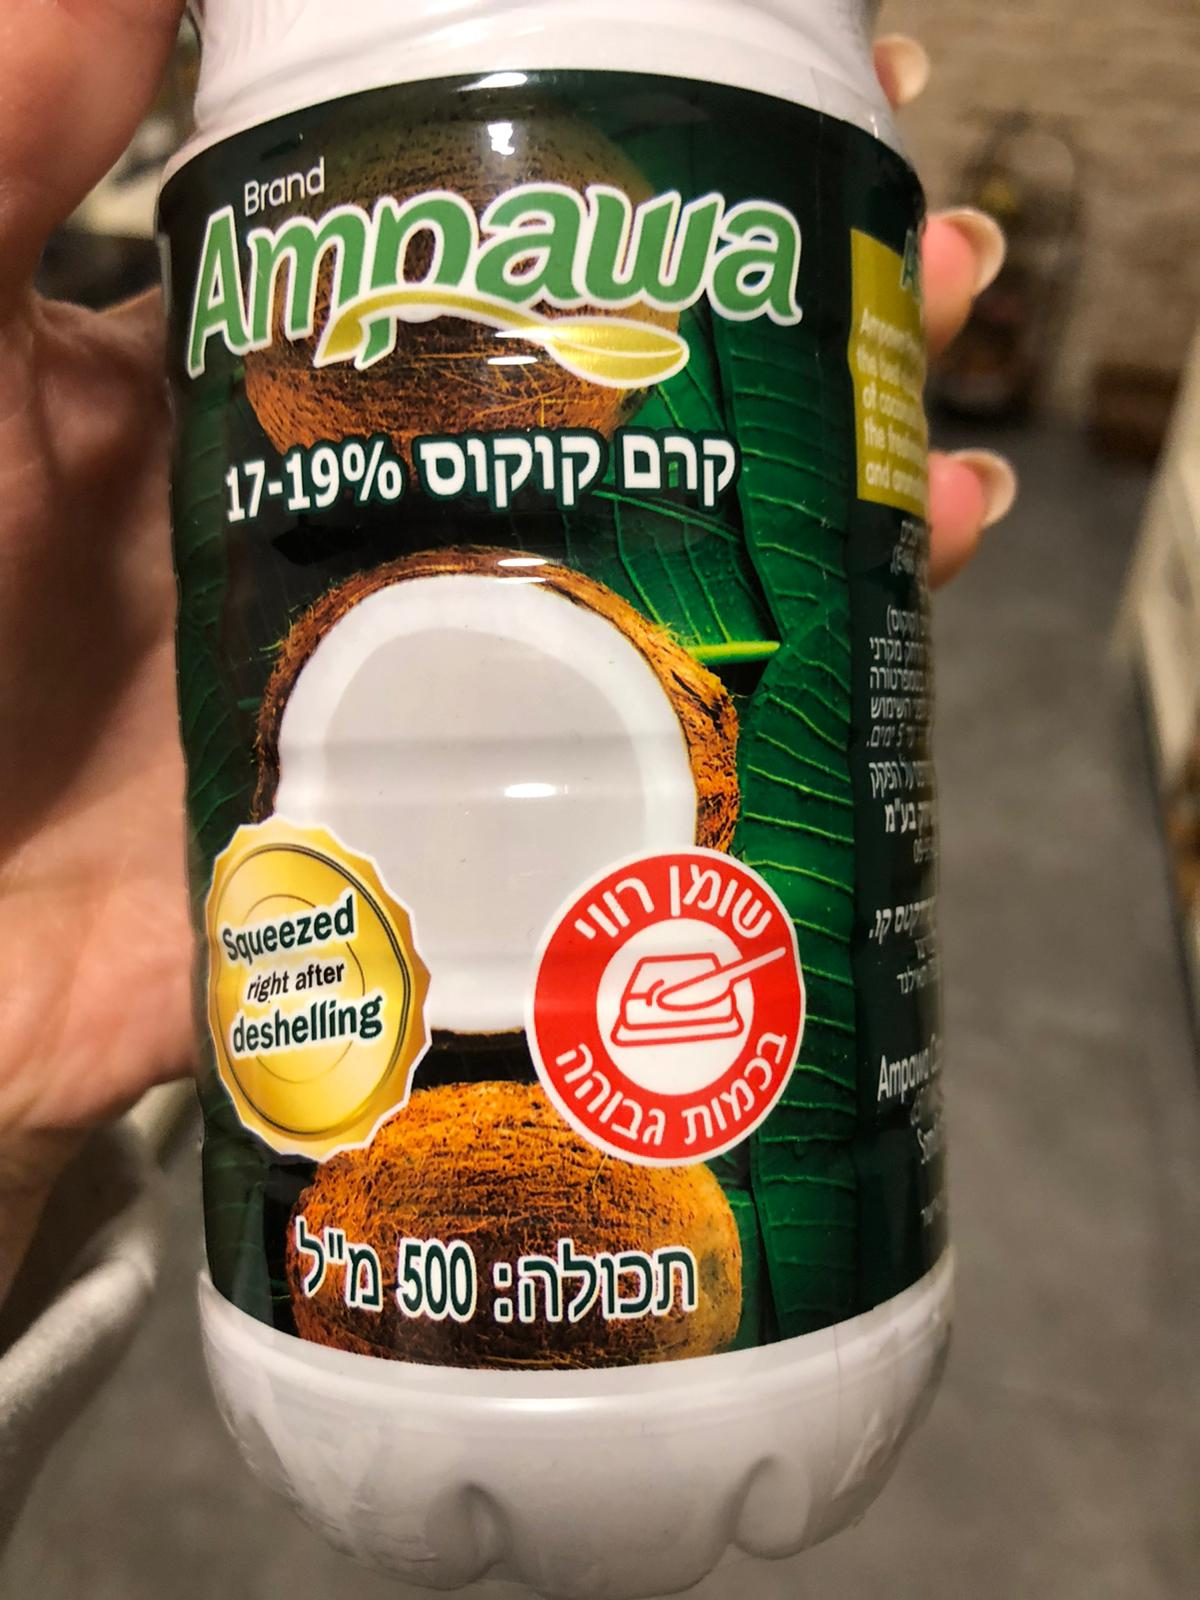fat: (526, 845, 807, 1165)
